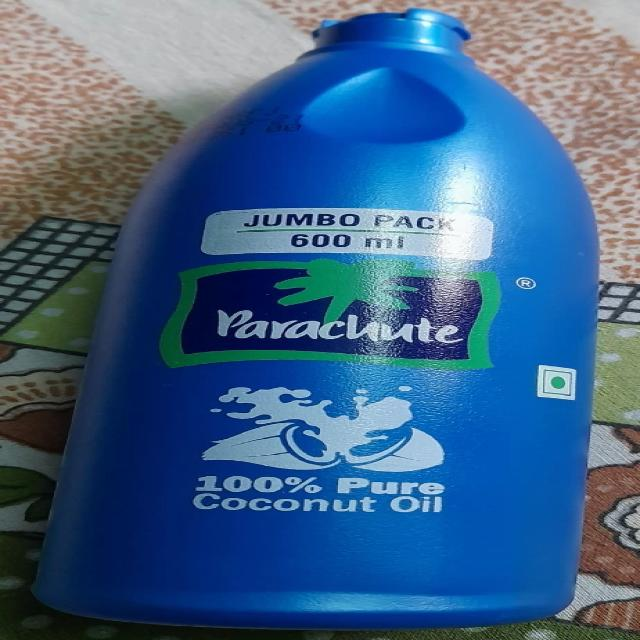parachute_oil: (75, 6, 609, 635)
